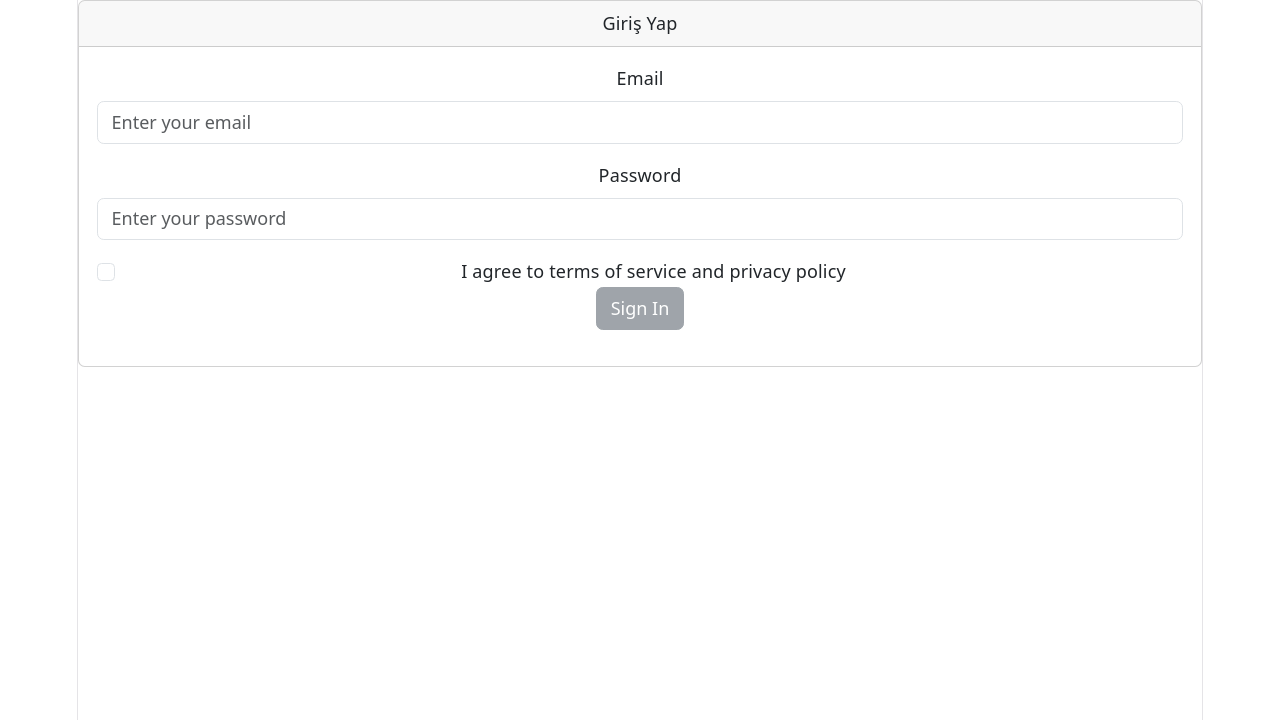
Test: Login Form › should be an email error message, and the button should be disabled
Step 1. Type "ihsansahin777" into the field with test id "input-email" → (640, 123), box top-left (97, 101), bottom-right (1183, 144)
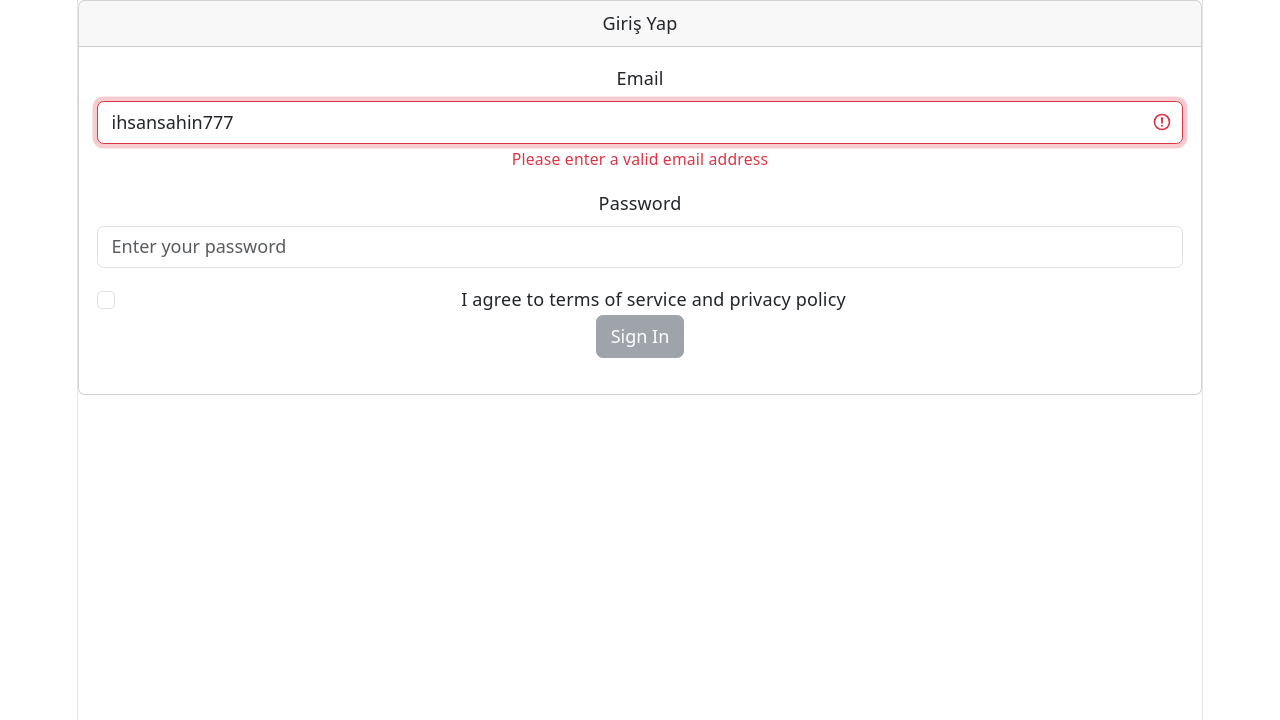
Expected: the button with test id "submit" is disabled, top-left (596, 315), bottom-right (684, 358)
Expected: the number of elements with test id "error" is 1, top-left (512, 148), bottom-right (769, 170)
Expected: the text "Please enter a valid email address" is shown, top-left (512, 148), bottom-right (768, 170)
